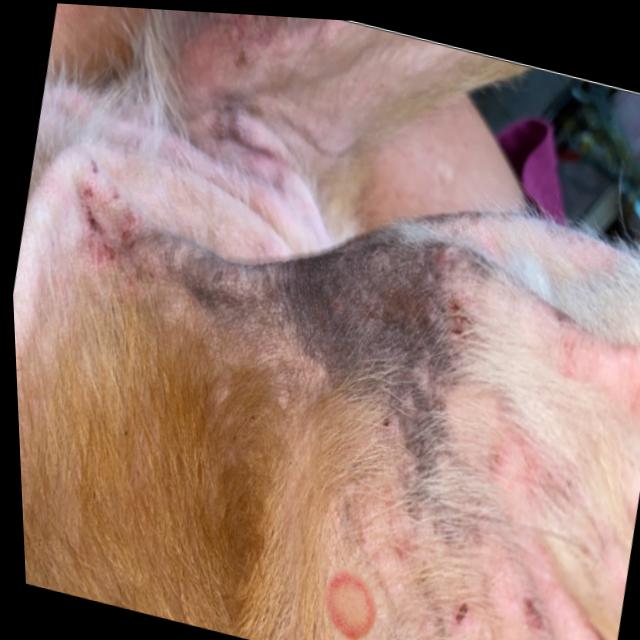ringworm: (277, 507, 415, 640)
